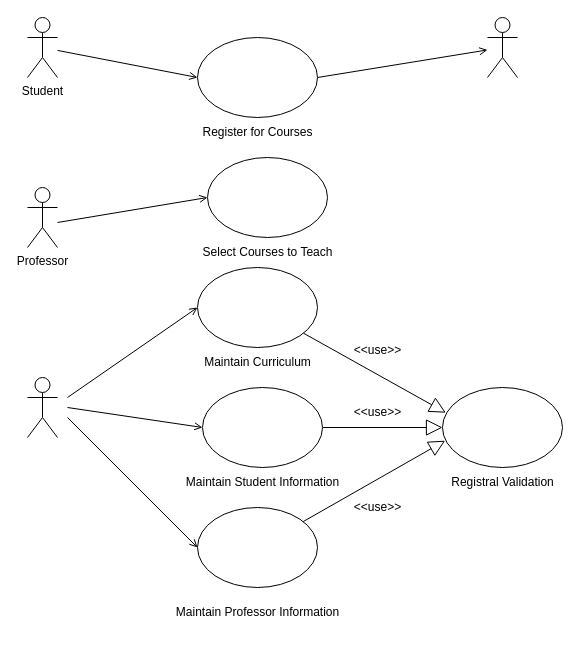
Some shapes in this 585 by 645 pixel diagram are drawn without their labels. The centre of each missing label's shape, as x and y in pixels:
"Billing System" goes at point 502,47.
"Registral" goes at point 42,407.
